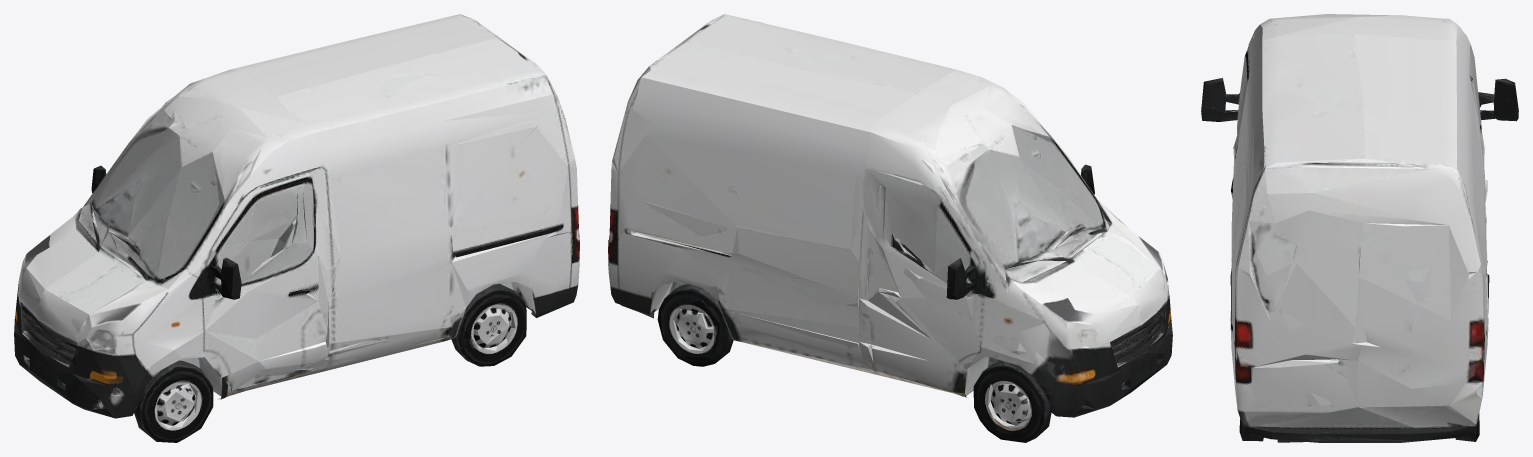
Rendered from furgoneta.glb.
3 renders of one model, left to right at view 1: azimuth 30°, elevation 25°; view 2: azimuth 150°, elevation 25°; view 3: azimuth 270°, elevation 25°, orthographic. The views are drawn at different scales.
Bounding box in the file's own units: 1.9 × 1.01 × 0.935.
Materials: 1 (1 with a texture image).
